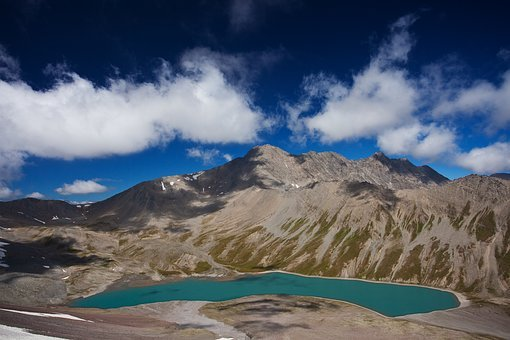mountain: (15, 155, 510, 340)
sky: (4, 4, 508, 163)
